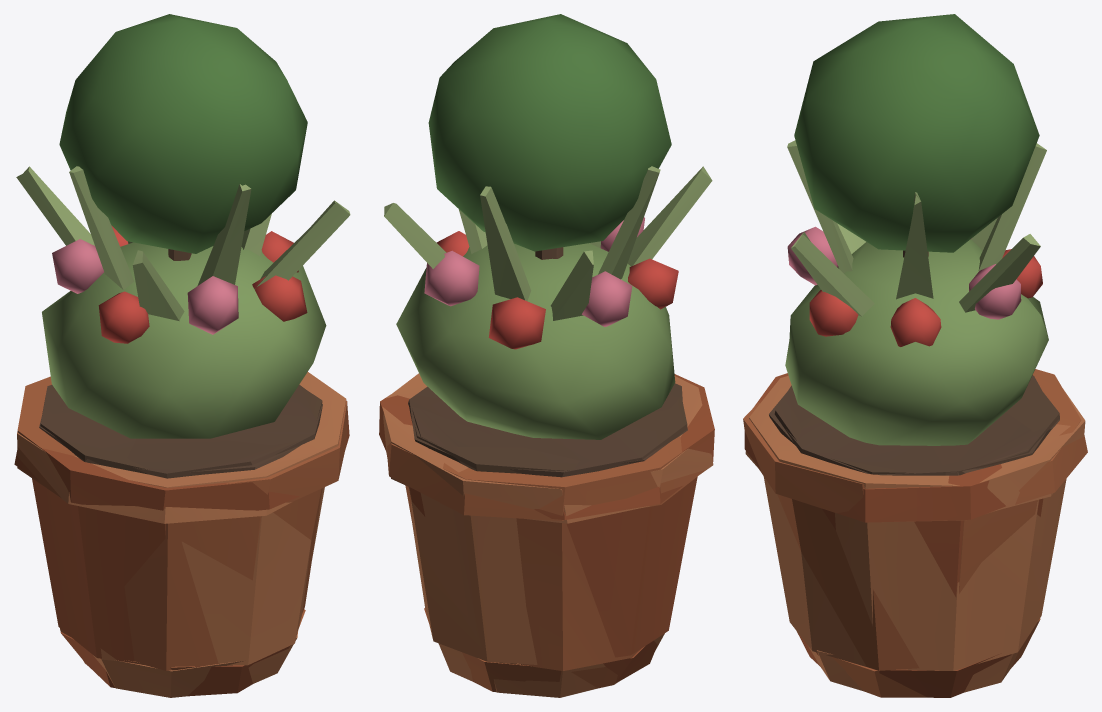
Rendered from pot.terracotta.glb.
The picture shows the model from 3 angles, left to right: view 1: azimuth 30°, elevation 25°; view 2: azimuth 150°, elevation 25°; view 3: azimuth 270°, elevation 25°; orthographic projection.
Visible parts, largest first — view 1: pot.terracotta.v2.mesh, pot.terracotta.v0.mesh, pot.terracotta.v1.mesh; view 2: pot.terracotta.v0.mesh, pot.terracotta.v2.mesh, pot.terracotta.v1.mesh; view 3: pot.terracotta.v0.mesh, pot.terracotta.v2.mesh, pot.terracotta.v1.mesh.
Boxes of the visible parts, bbox=[...] form: pot.terracotta.v2.mesh: bbox=[14, 14, 349, 696]; pot.terracotta.v0.mesh: bbox=[17, 225, 347, 670]; pot.terracotta.v1.mesh: bbox=[16, 166, 350, 697]; pot.terracotta.v0.mesh: bbox=[387, 217, 711, 692]; pot.terracotta.v2.mesh: bbox=[379, 14, 714, 682]; pot.terracotta.v1.mesh: bbox=[382, 166, 713, 697]; pot.terracotta.v0.mesh: bbox=[743, 226, 1087, 697]; pot.terracotta.v2.mesh: bbox=[744, 14, 1059, 697]; pot.terracotta.v1.mesh: bbox=[745, 140, 1085, 692].
Bounding box in the file's own units: 0.6353 × 1.36 × 0.6729.
